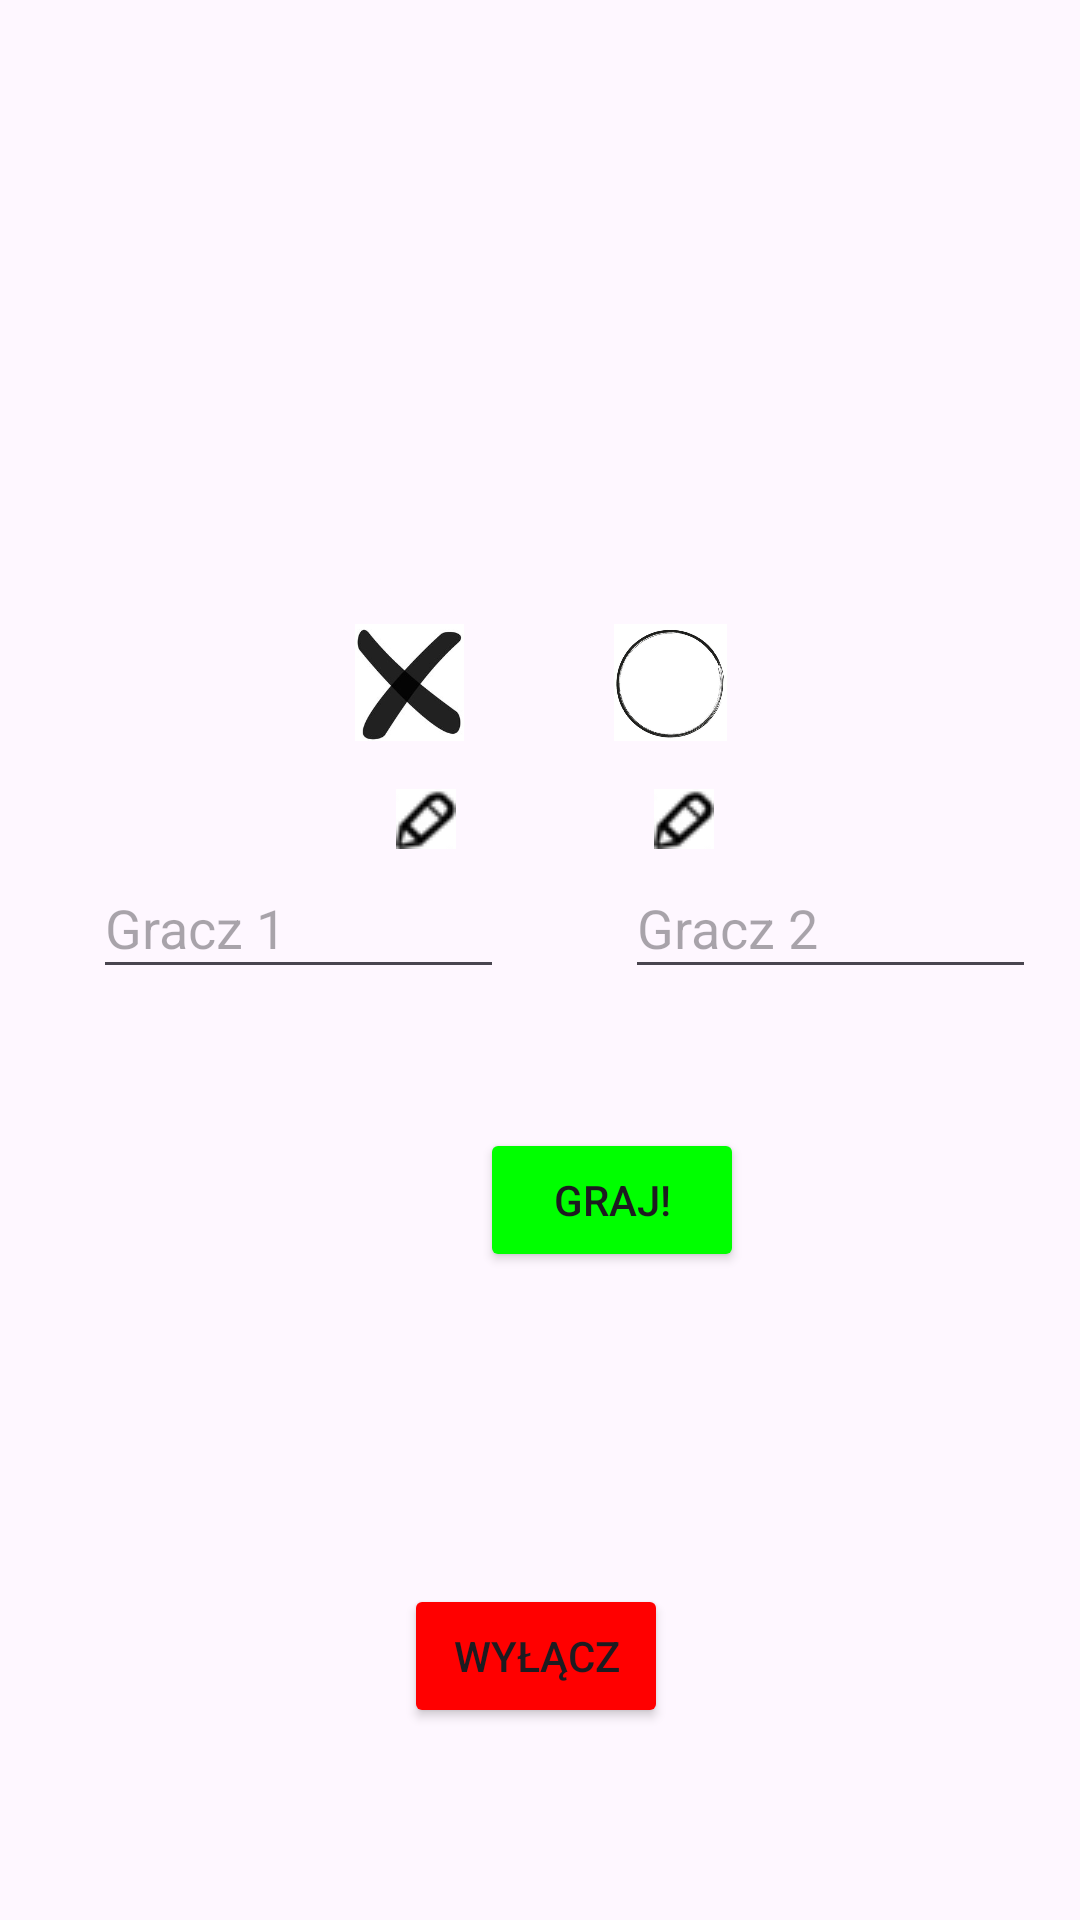

Named icons in this screenshot (1080px x 1920px) and their bounding boxes, (x1, y1, x2, y2):
Ikona gracza 1: (357, 629, 461, 740)
Ikona gracza 2: (616, 630, 724, 738)
